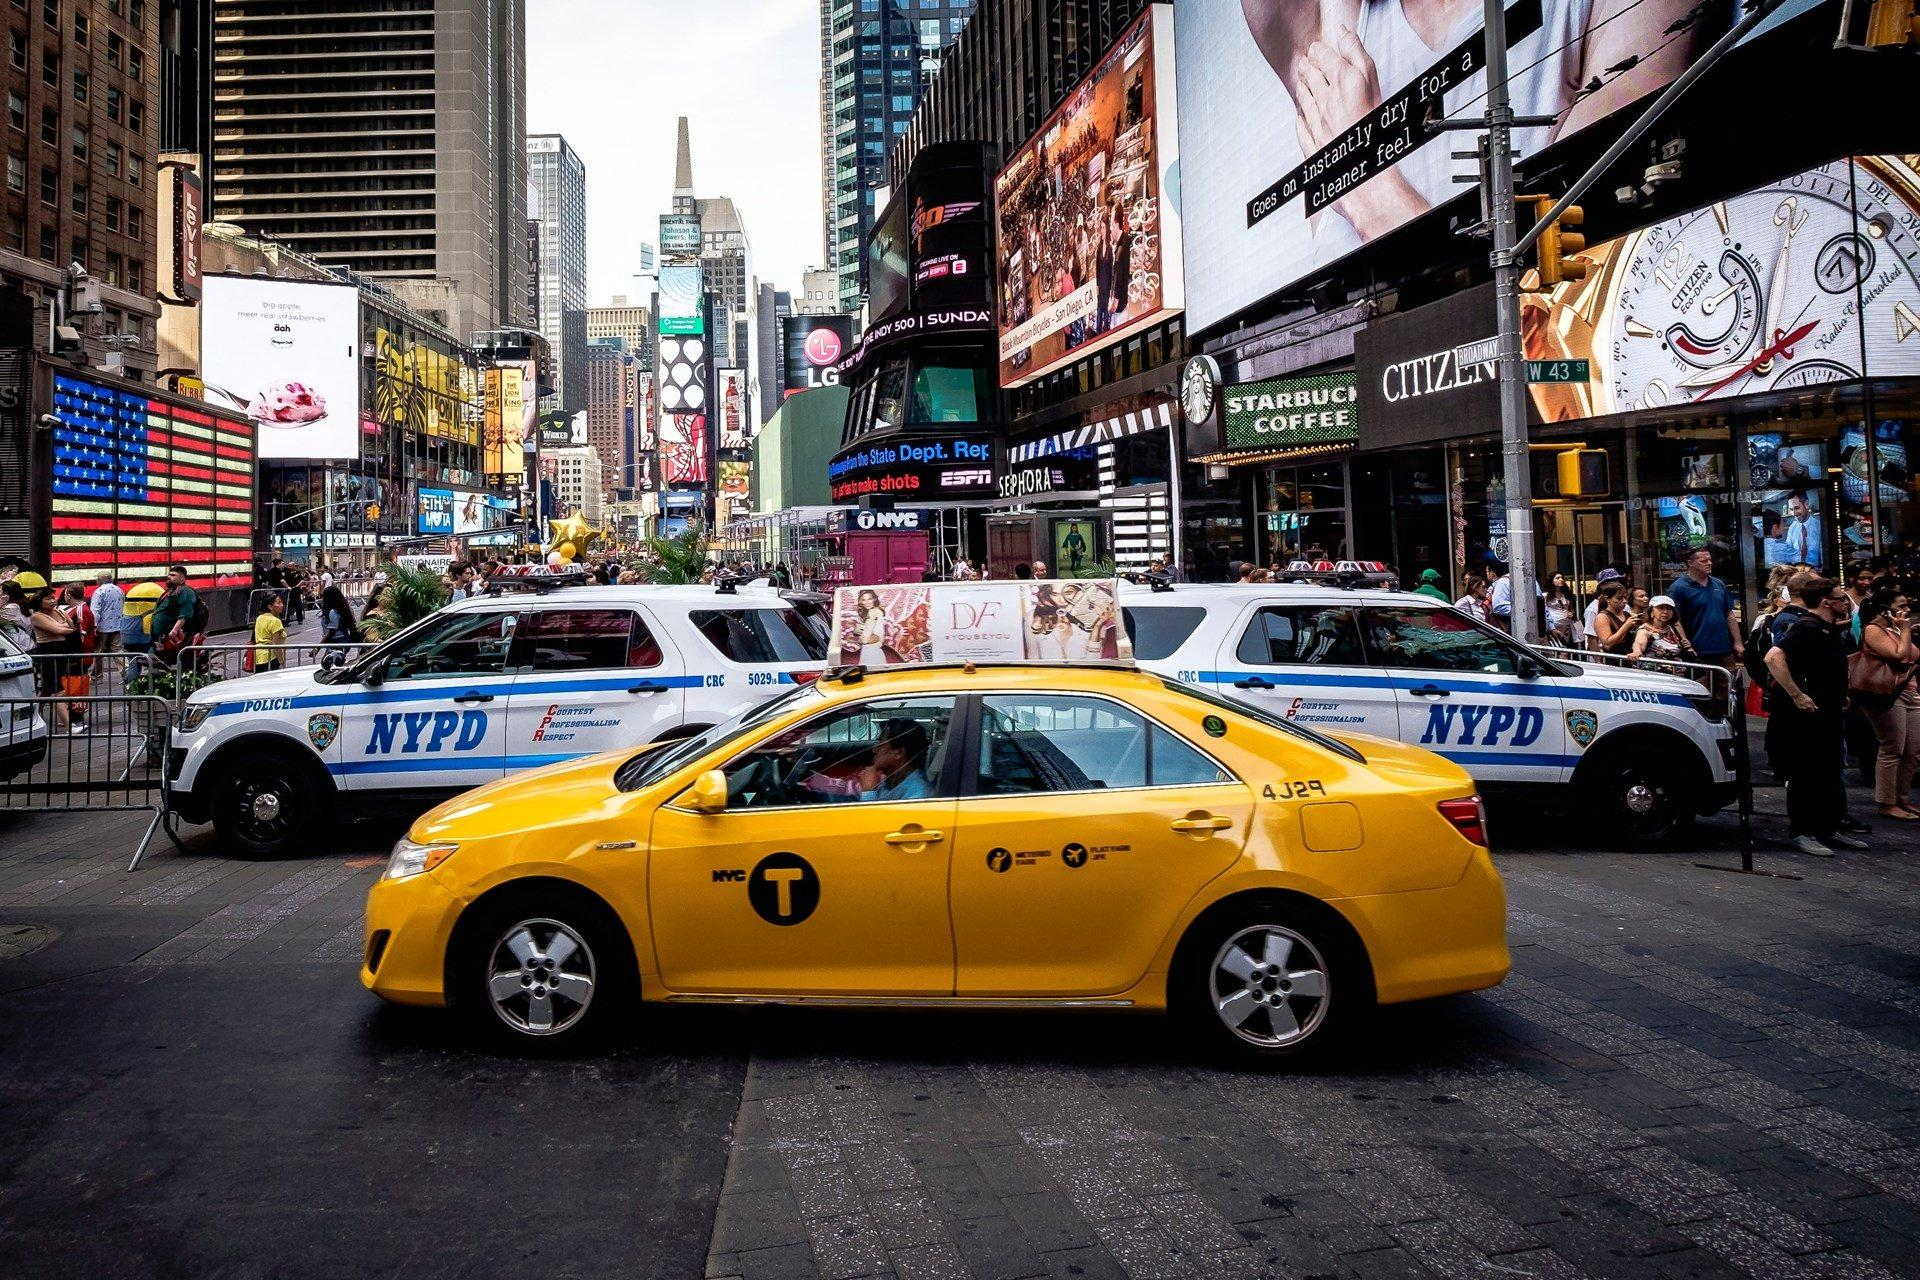taxi: (329, 711, 1541, 1109)
